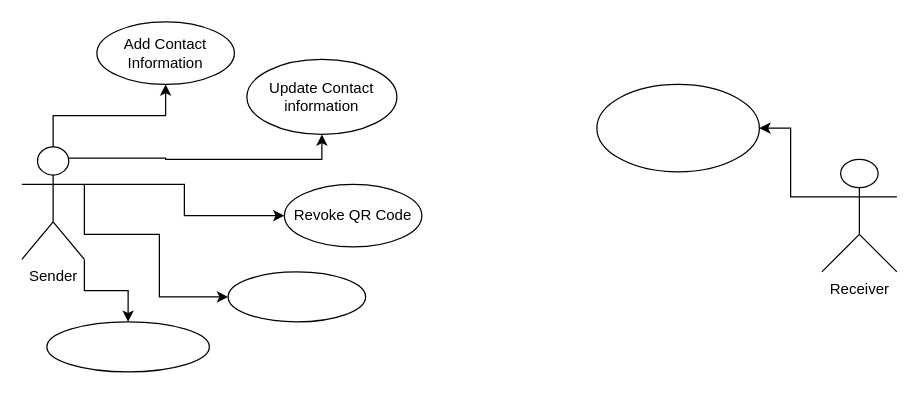
The diagram is 919 pixels wide and 394 high, and some of its shapes have lost their labels. Here are the shapes that lost their labels. From the top down, the centre of each, then its label:
At point 677,127: "Scan QR Code".
At point 296,296: "Create QR Code".
At point 127,346: "Pause QR Code".
